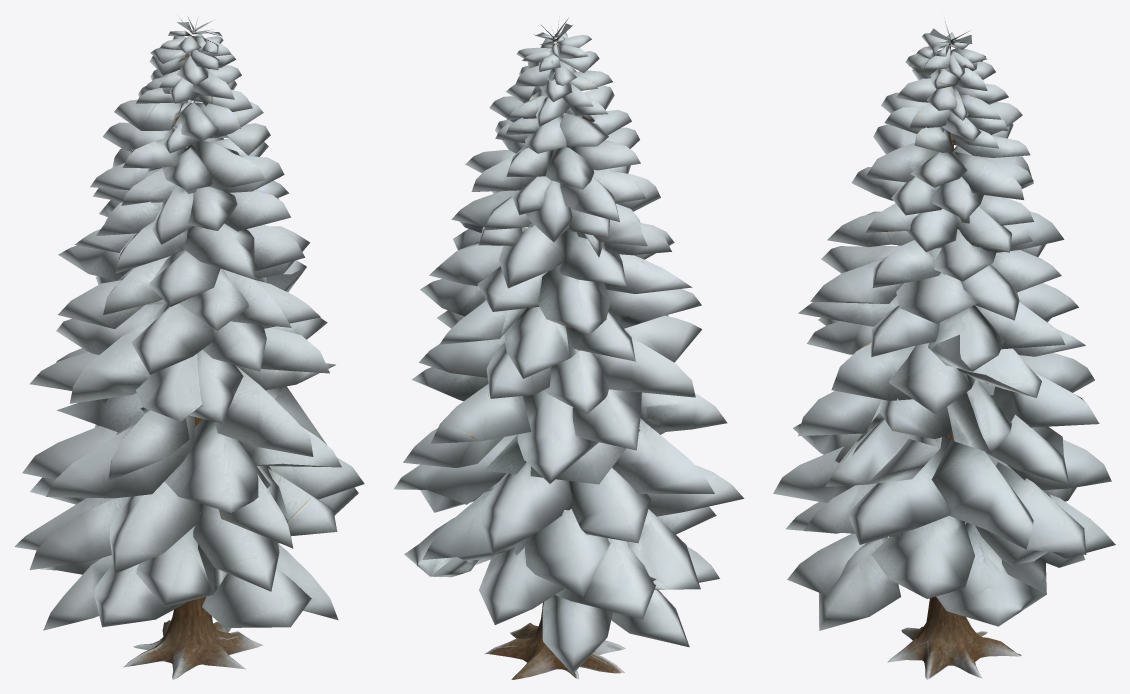
Rendered from snowPine.glb.
The picture shows the model from 3 angles, left to right: view 1: azimuth 30°, elevation 25°; view 2: azimuth 150°, elevation 25°; view 3: azimuth 270°, elevation 25°; orthographic projection.
Size of the model in its own units: 0.4643 by 0.9233 by 0.4531.
1 material, 1 textured.
